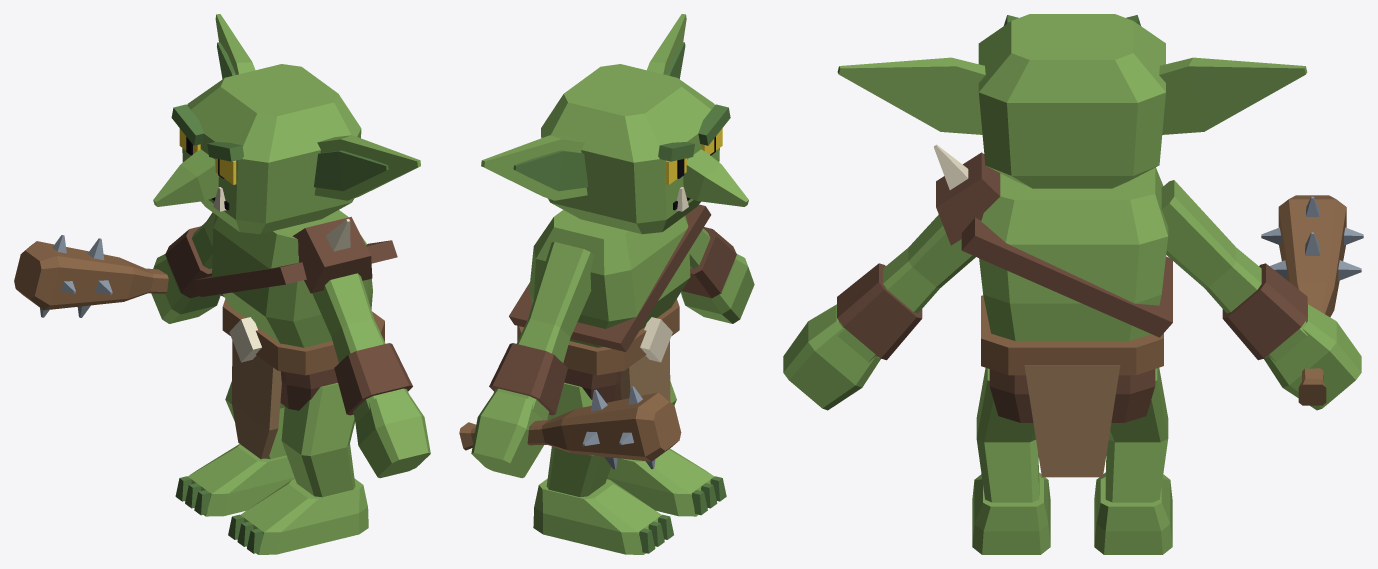
File: goblin.glb
The picture shows the model from 3 angles, left to right: view 1: azimuth 30°, elevation 25°; view 2: azimuth 150°, elevation 25°; view 3: azimuth 270°, elevation 25°; orthographic projection. The views are drawn at different scales.
Parts seen in each view (by area): view 1: Goblin_Head, Goblin_Foot, Goblin_Torso, Goblin_Club, Goblin_Leg, Goblin_Hand, Goblin_Bracer, Goblin_Arm, Goblin_LoinclothFront, Goblin_ShoulderPad, Goblin_Ear, Goblin_Belt (+8 smaller); view 2: Goblin_Head, Goblin_Foot, Goblin_Torso, Goblin_Club, Goblin_Hand, Goblin_Arm, Goblin_Bracer, Goblin_Strap, Goblin_Ear, Goblin_Leg, Goblin_Belt, Goblin_EarInner (+7 smaller); view 3: Goblin_Head, Goblin_Torso, Goblin_Ear, Goblin_Arm, Goblin_Leg, Goblin_Hand, Goblin_Foot, Goblin_Bracer, Goblin_LoinclothBack, Goblin_Club, Goblin_Strap, Goblin_Belt (+2 smaller).
Boxes of the visible parts, box(x1,y1,x2,y2) form: Goblin_Head: box(182, 64, 361, 234); Goblin_Foot: box(188, 444, 368, 554); Goblin_Torso: box(212, 210, 372, 347); Goblin_Club: box(14, 235, 223, 317); Goblin_Leg: box(225, 381, 355, 497); Goblin_Hand: box(151, 253, 430, 478); Goblin_Bracer: box(165, 226, 412, 415); Goblin_Arm: box(167, 212, 408, 421); Goblin_LoinclothFront: box(231, 341, 281, 459); Goblin_ShoulderPad: box(292, 216, 372, 293); Goblin_Ear: box(215, 14, 420, 200); Goblin_Belt: box(222, 299, 384, 375); Goblin_Head: box(541, 64, 719, 234); Goblin_Foot: box(533, 448, 714, 554); Goblin_Torso: box(529, 210, 690, 347); Goblin_Club: box(459, 386, 681, 469); Goblin_Hand: box(471, 254, 754, 478); Goblin_Arm: box(494, 228, 735, 420); Goblin_Bracer: box(489, 227, 736, 415); Goblin_Strap: box(509, 204, 711, 351); Goblin_Ear: box(481, 14, 686, 200); Goblin_Leg: box(546, 381, 676, 497); Goblin_Belt: box(517, 299, 679, 375); Goblin_EarInner: box(513, 42, 685, 191); Goblin_Head: box(978, 14, 1165, 188); Goblin_Torso: box(979, 167, 1168, 341); Goblin_Ear: box(837, 57, 1307, 134); Goblin_Arm: box(837, 180, 1307, 362); Goblin_Leg: box(976, 368, 1168, 502); Goblin_Hand: box(783, 304, 1361, 410); Goblin_Foot: box(972, 472, 1172, 554); Goblin_Bracer: box(837, 263, 1307, 360); Goblin_LoinclothBack: box(1024, 365, 1120, 477); Goblin_Club: box(1261, 195, 1363, 405); Goblin_Strap: box(961, 217, 1172, 337); Goblin_Belt: box(981, 295, 1163, 375).
Size of the model in its own units: 0.7181 by 1.24 by 1.33.
